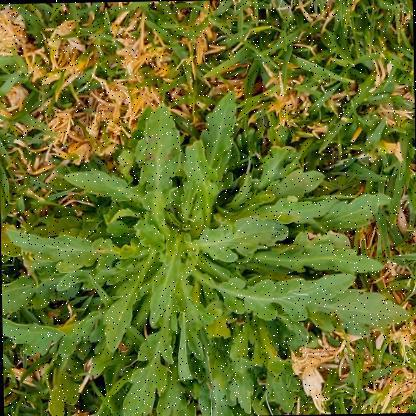Weeds: (0, 84, 414, 415)
